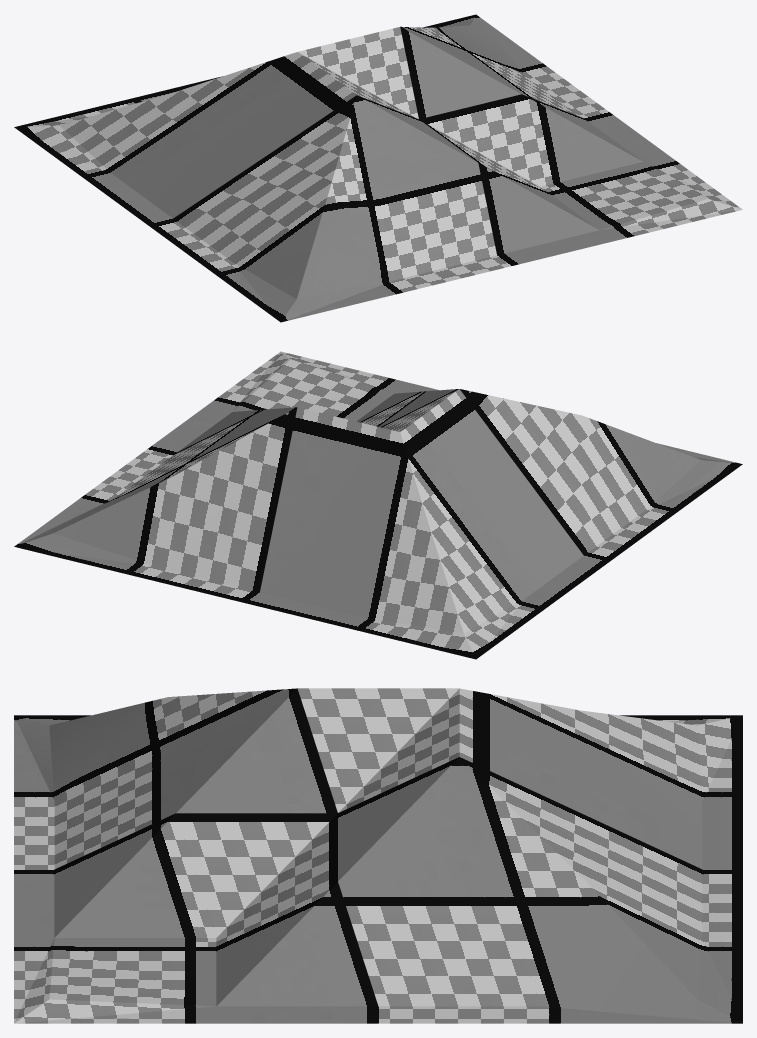
File: roof_7088099.glb
3 views of the same model, one above another, from view 1: azimuth 30°, elevation 25°; view 2: azimuth 150°, elevation 25°; view 3: azimuth 270°, elevation 25° (orthographic). The views are drawn at different scales.
Visible parts, largest first — view 1: mesh; view 2: mesh; view 3: mesh.
Boxes of the visible parts, x1,y1,x2,y2 form: mesh: [14, 14, 742, 322]; mesh: [14, 351, 742, 659]; mesh: [14, 688, 742, 1023].
Size of the model in its own units: 18 by 4 by 18.
1 material, 1 textured.
